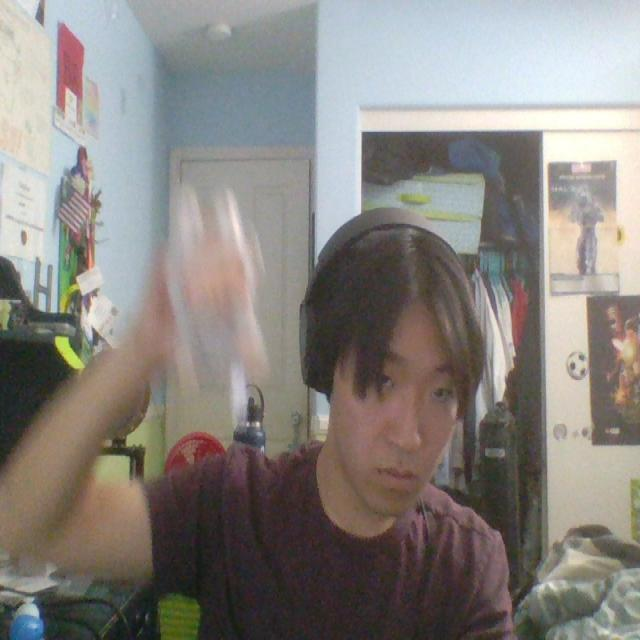labubu: (167, 185, 267, 421)
